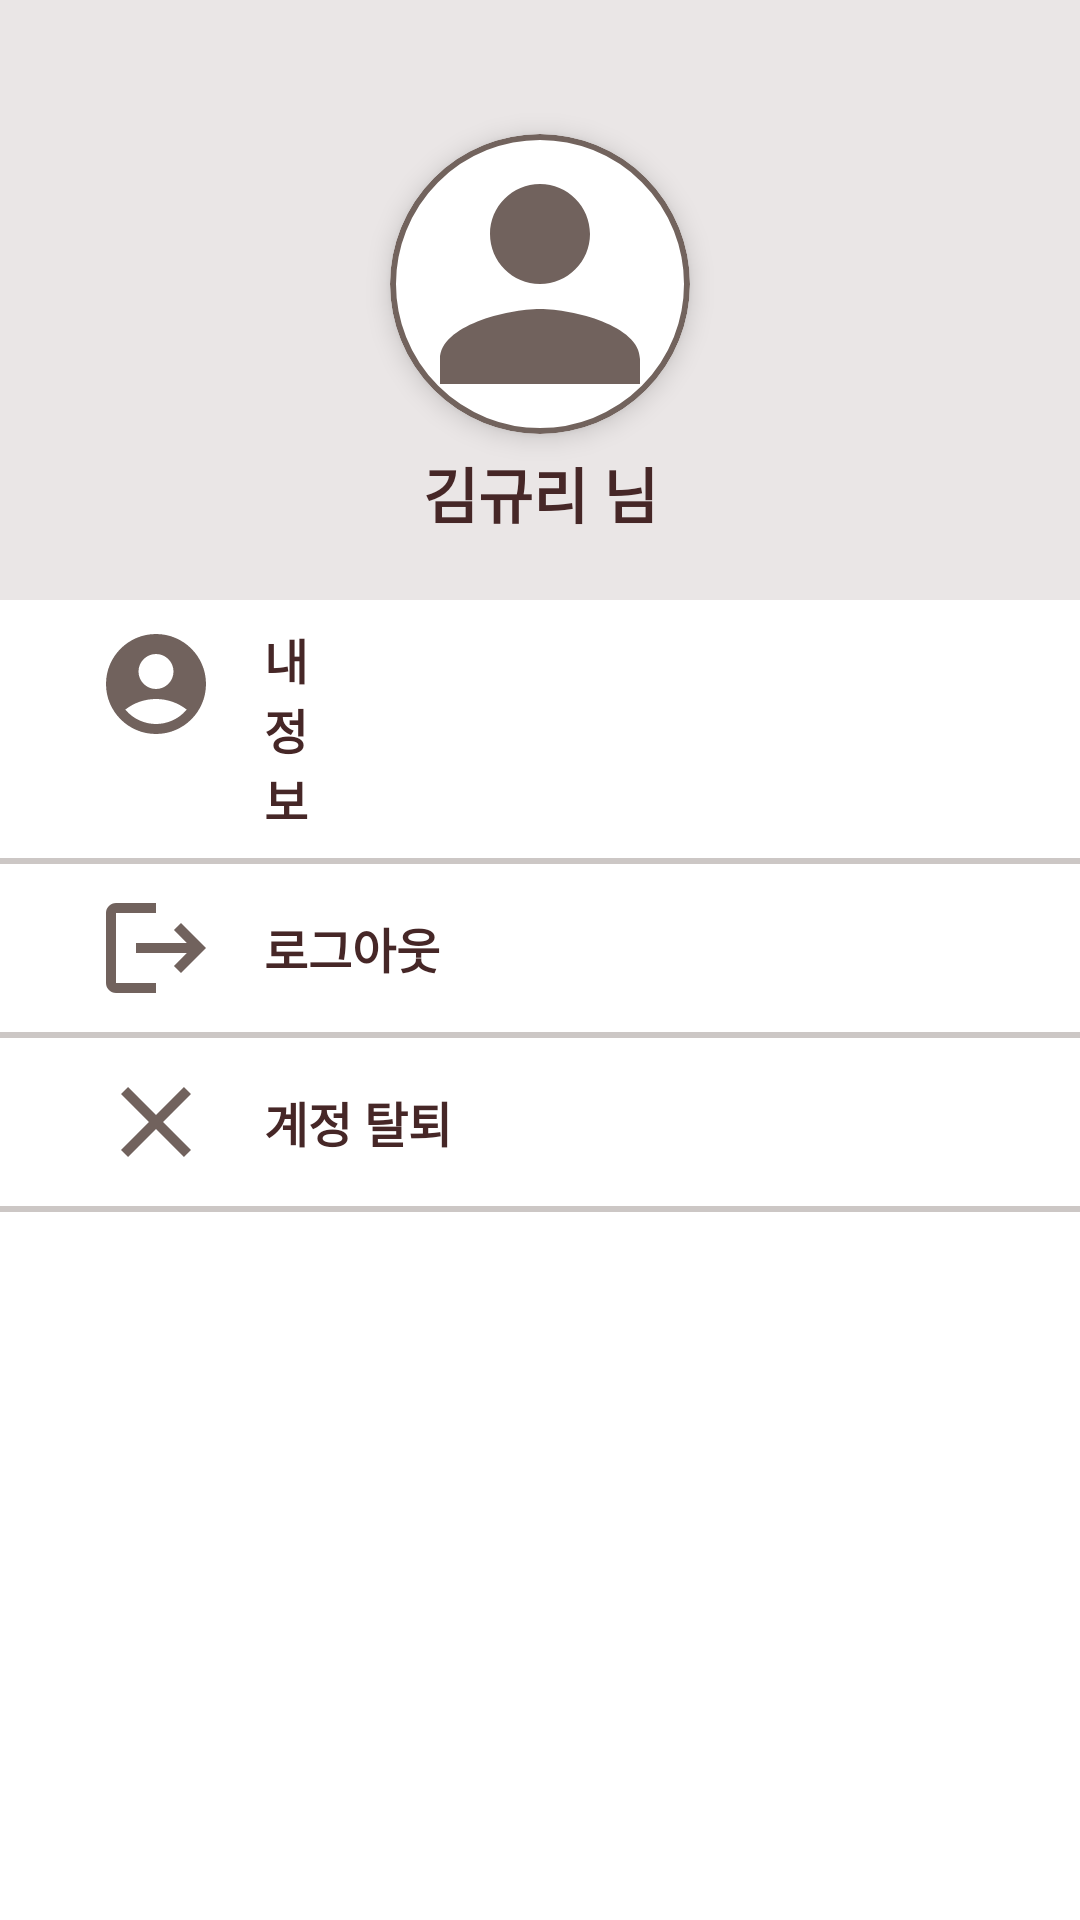

Icon bounding boxes for this 1080×1920 phone screenshot, format box=[x1, y1, x2, y2]:
account circle: box=[106, 634, 206, 734]
close: box=[121, 1087, 191, 1157]
person: box=[390, 134, 690, 434]
